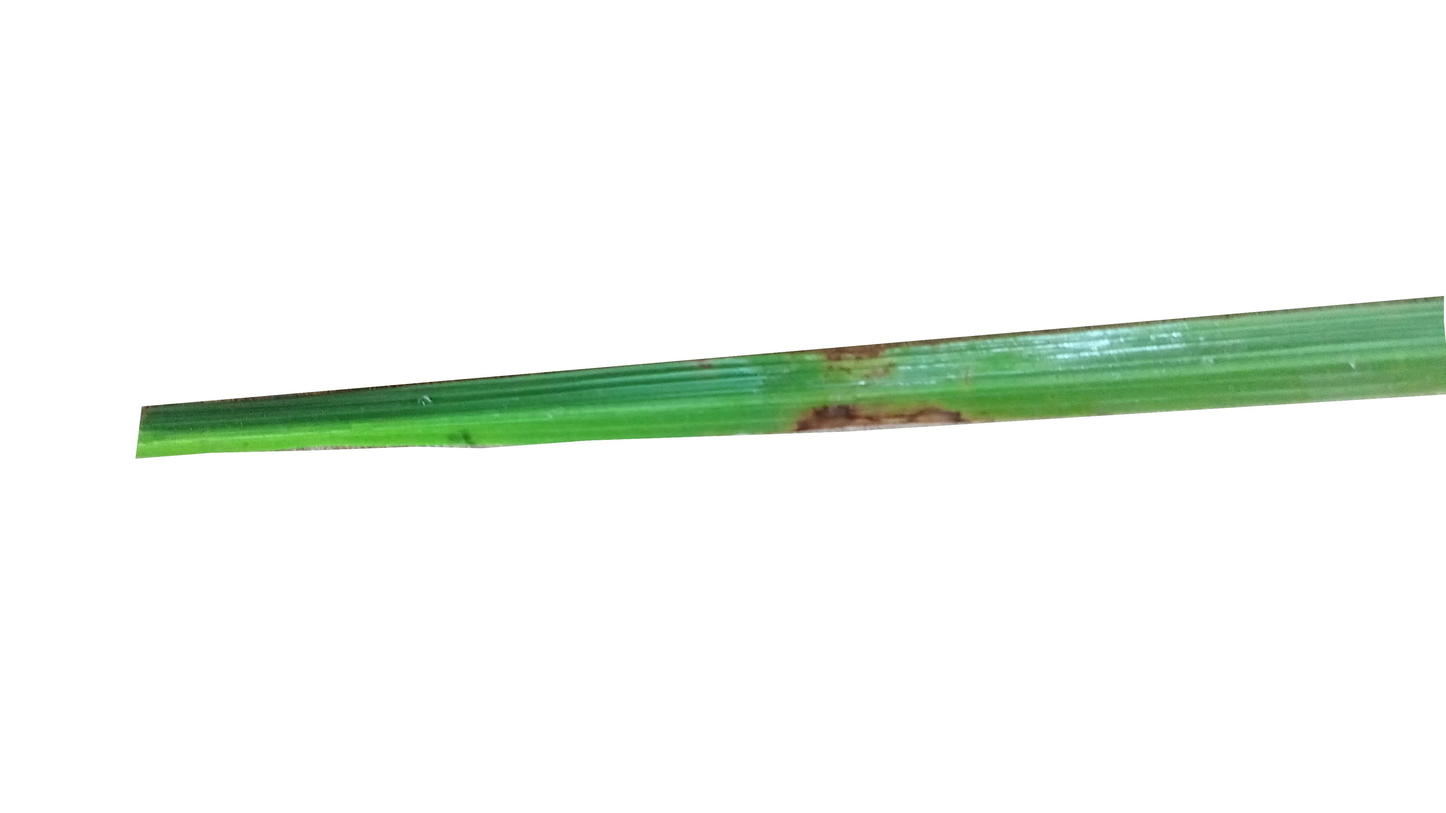Rice blast: (787, 387, 975, 435), (794, 350, 902, 379)
